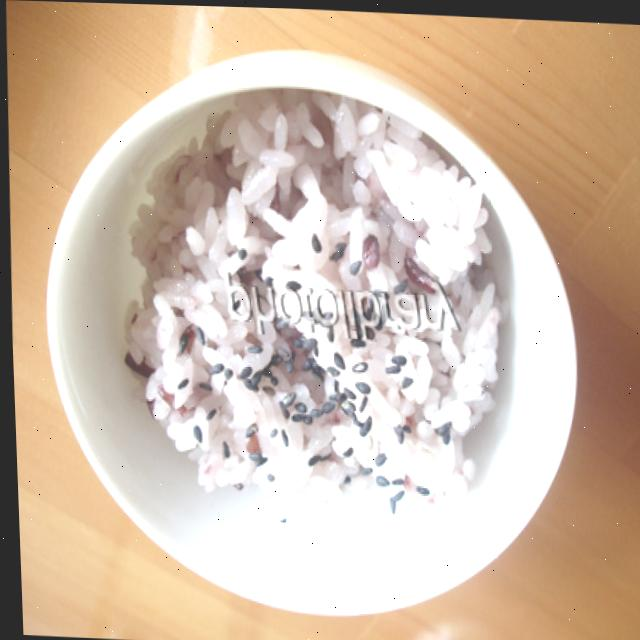米饭主食: (1, 22, 640, 639)
